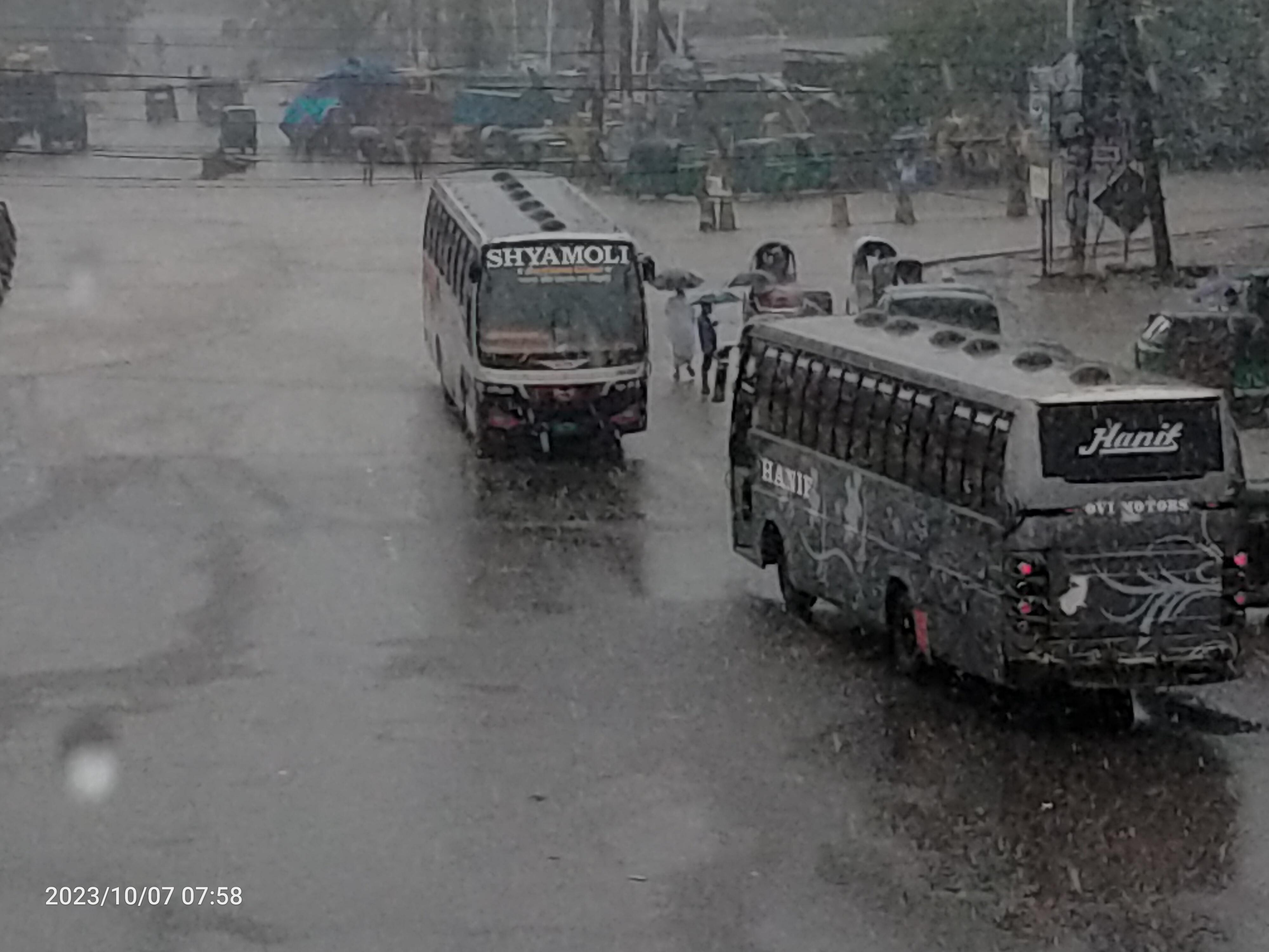Bus: (720, 294, 1261, 717), (400, 152, 674, 486)
Truck: (29, 89, 113, 164)
